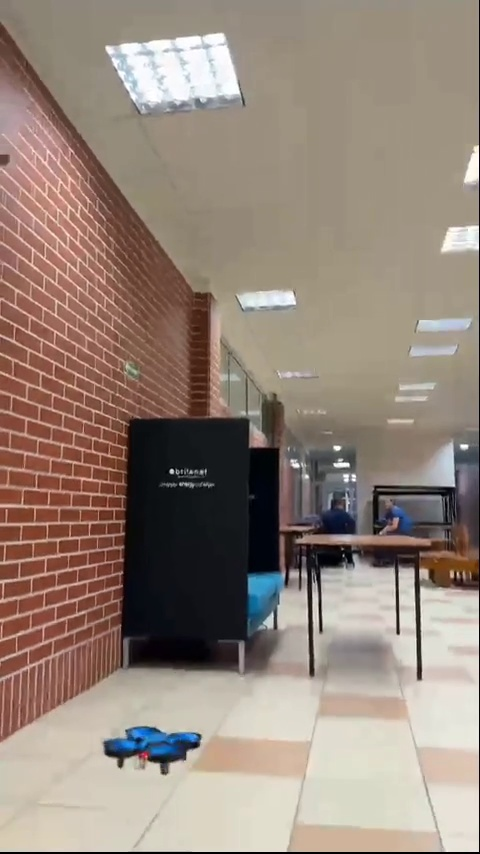drone: (105, 728, 207, 773)
no vest: (374, 489, 417, 555), (318, 489, 349, 537)
